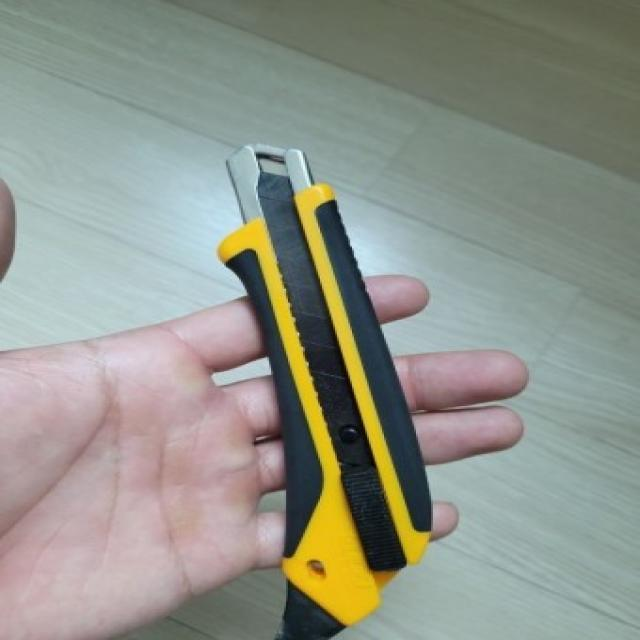cutter: (200, 142, 450, 640)
